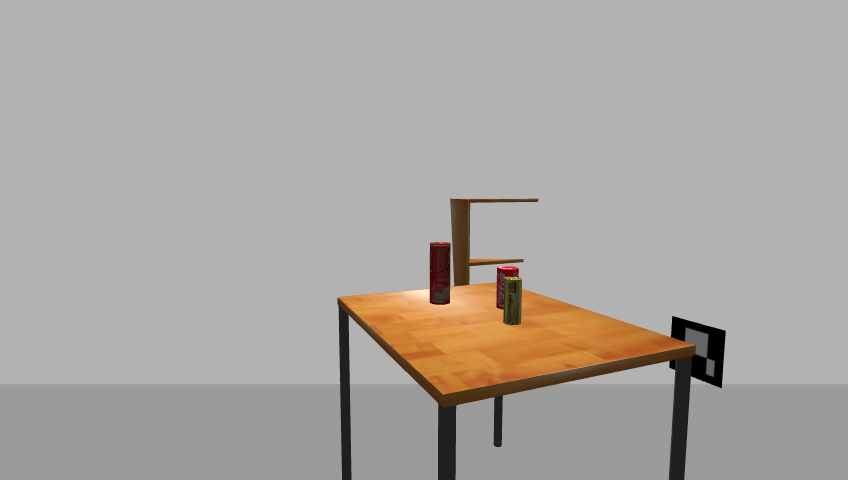aruco marker: (665, 315, 731, 390)
biscuits pack: (504, 278, 523, 326)
bookshelf: (448, 195, 543, 328)
coke can: (495, 266, 519, 311)
dinner table: (330, 282, 702, 480)
pringles can: (428, 241, 452, 306)
